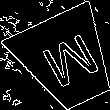M_SE: (32, 27, 101, 93)
